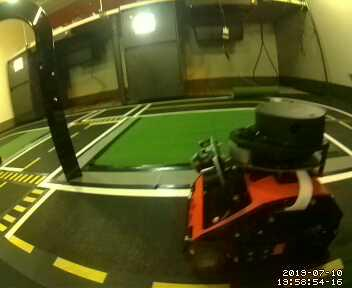pheeno: (183, 99, 345, 260)
